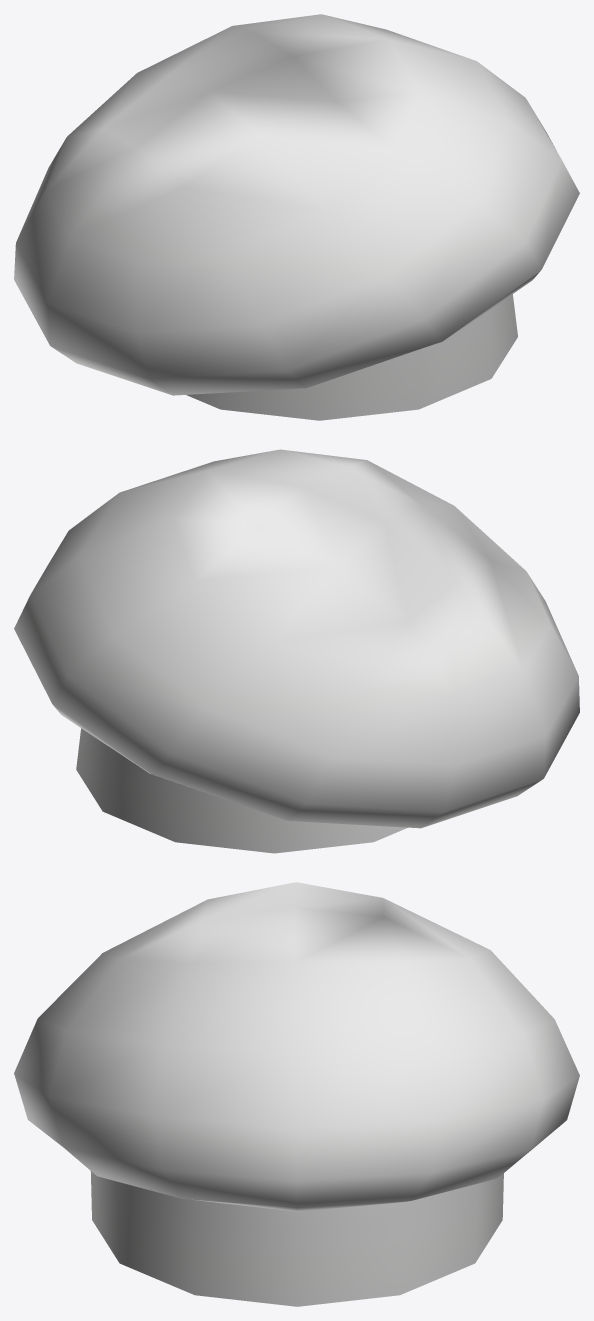
The model's file is Head_Prop_Cooking_Toque_01.fbx.
The picture shows the model from 3 angles, top to bottom: view 1: azimuth 30°, elevation 25°; view 2: azimuth 150°, elevation 25°; view 3: azimuth 270°, elevation 25°; orthographic projection. The views are drawn at different scales.
Visible parts, largest first — view 1: Head_Prop_Cooking_Toque_01; view 2: Head_Prop_Cooking_Toque_01; view 3: Head_Prop_Cooking_Toque_01.
Part boxes in pixels (bbox=[...]): Head_Prop_Cooking_Toque_01: bbox=[14, 14, 579, 420]; Head_Prop_Cooking_Toque_01: bbox=[14, 449, 579, 853]; Head_Prop_Cooking_Toque_01: bbox=[14, 882, 579, 1306].
Bounding box in the file's own units: 145 × 80.2 × 138.
